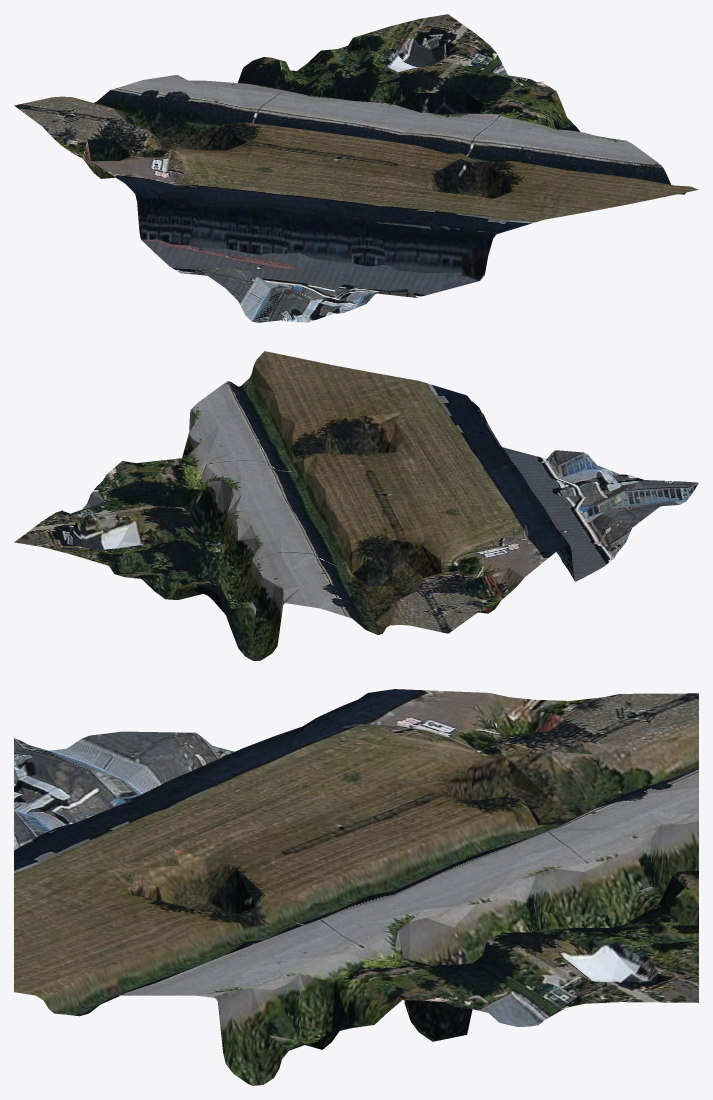
File: map_15_8185_13786.dae
3 renders of one model, top to bottom at view 1: azimuth 30°, elevation 25°; view 2: azimuth 150°, elevation 25°; view 3: azimuth 270°, elevation 25°, orthographic. The views are drawn at different scales.
Visible parts, largest first — view 1: Ter0; view 2: Ter0; view 3: Ter0.
Boxes of the visible parts, x1,y1,x2,y2 form: Ter0: (14, 14, 698, 322); Ter0: (14, 351, 698, 660); Ter0: (14, 689, 698, 1085).
Size of the model in its own units: 63.87 by 63.88 by 12.23.
Materials: 3 (3 with a texture image).
